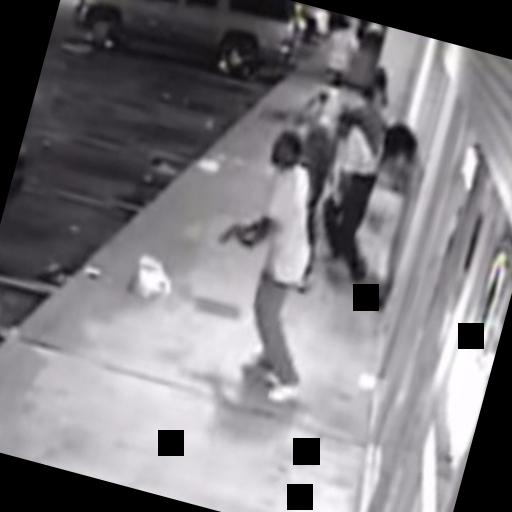Handgun: (214, 214, 244, 247)
